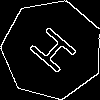H: (27, 24, 87, 82)
